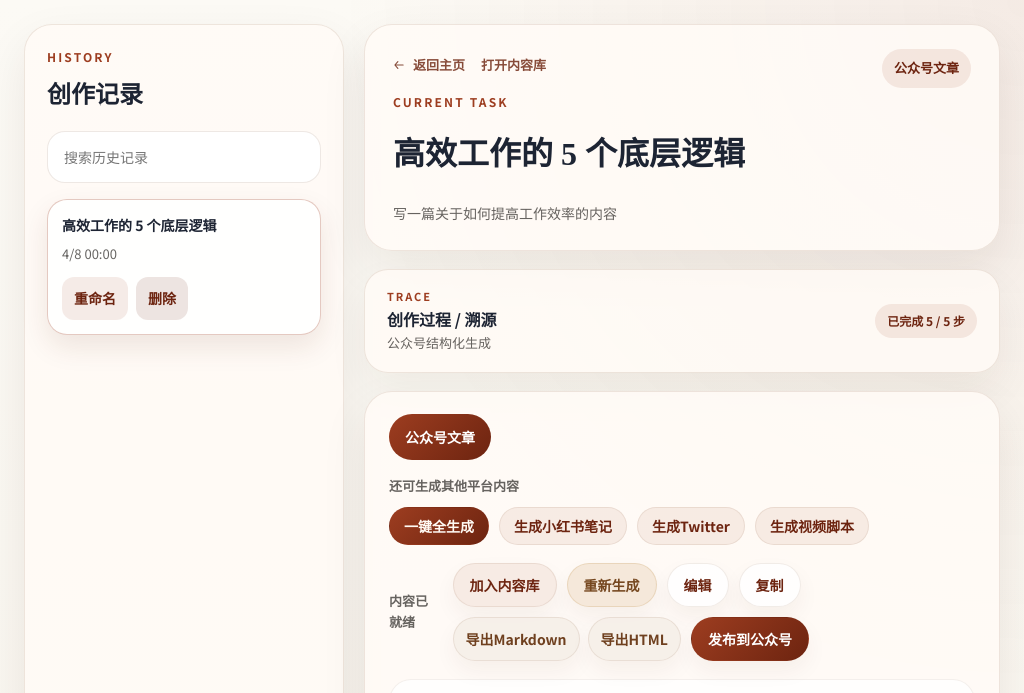
Scenario: WorkspaceShell › generates all remaining platforms in one click
Click the button "一键全生成": (439, 526) [389,507,489,545]
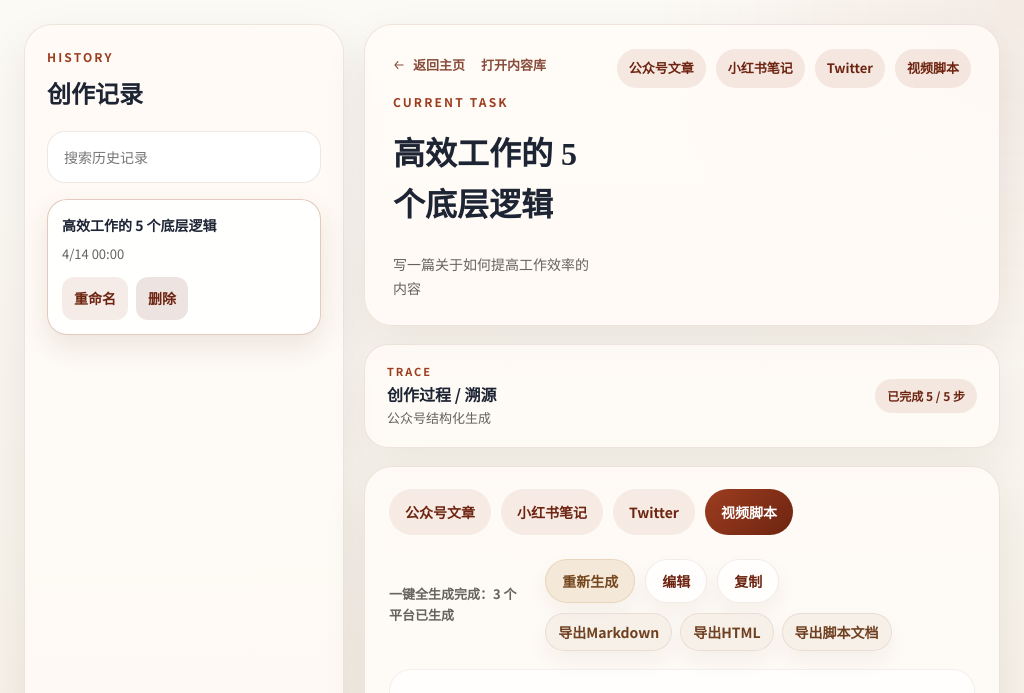
Now the text "一键全生成完成：3 个平台已生成" is shown, box [389,584,529,626]
Click the tab "小红书笔记": (552, 512) [501,488,603,535]
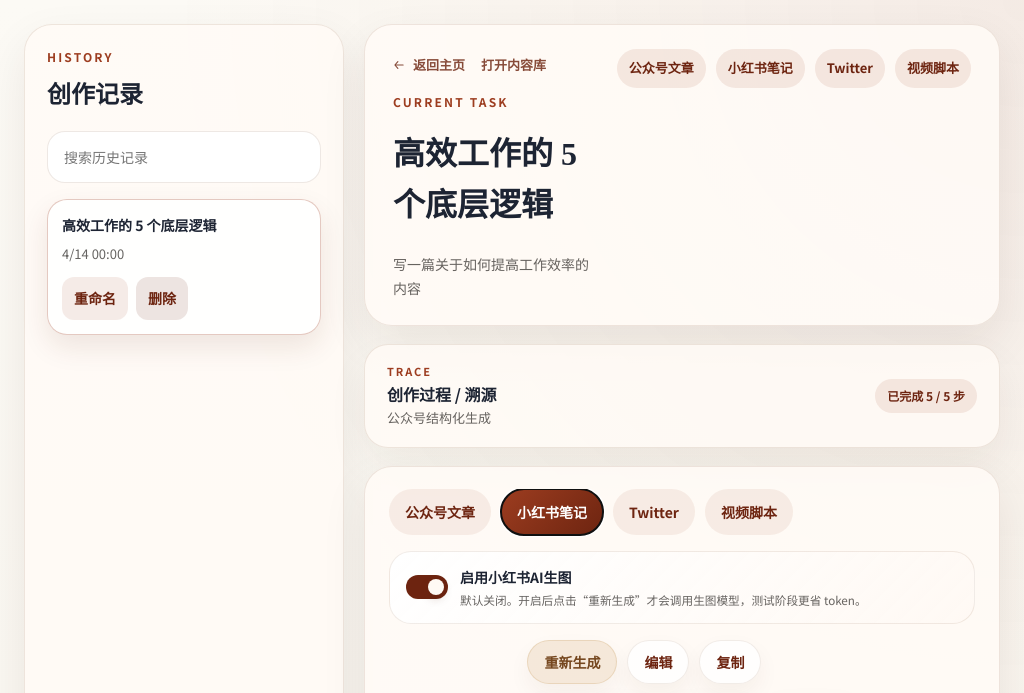
Now the checkbox labelled "启用小红书AI生图" is checked, box [389,551,975,624]
